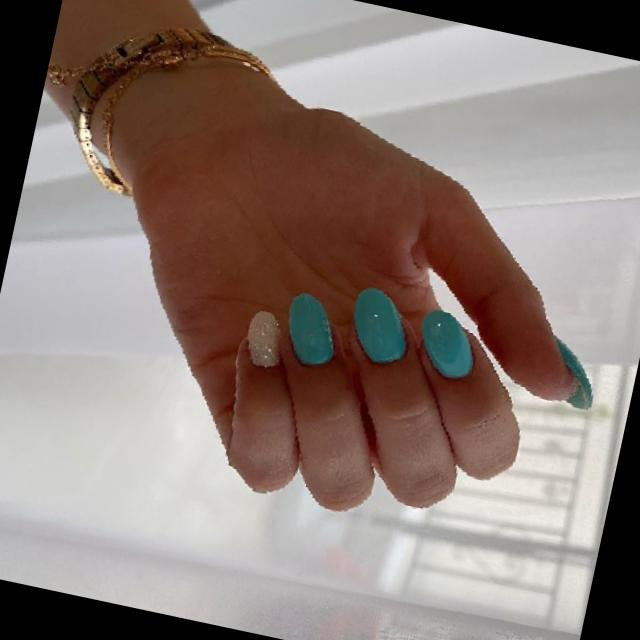Nail: (352, 289, 405, 363), (421, 309, 472, 379), (287, 293, 333, 365), (558, 343, 590, 407), (246, 310, 279, 365)
